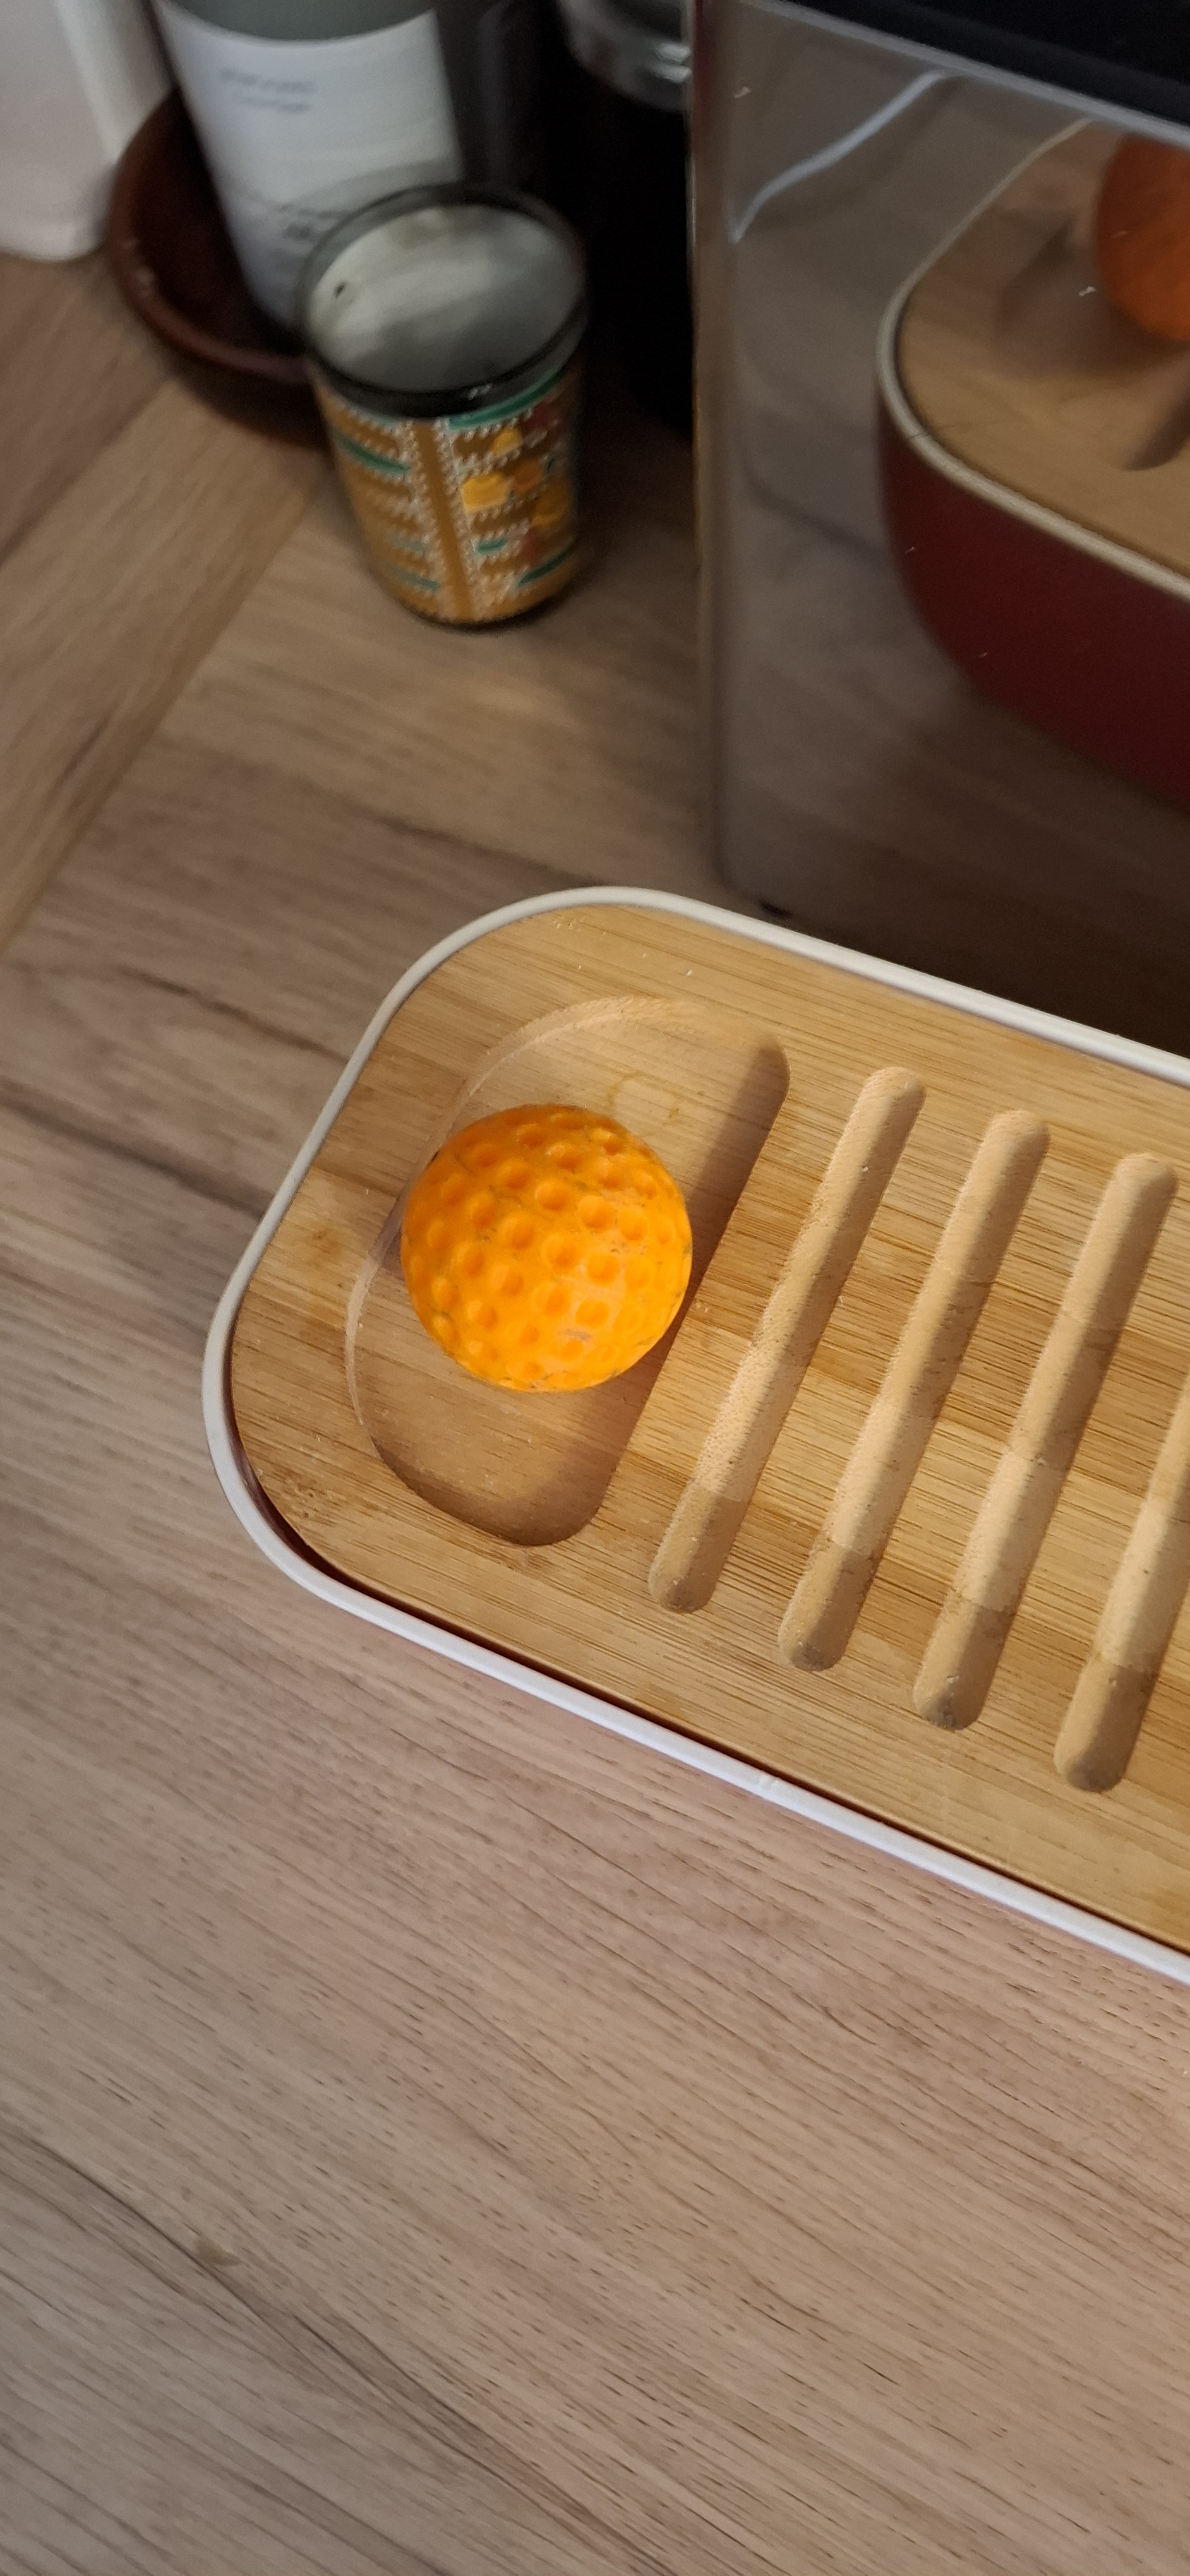ball: (511, 1081, 644, 1715)
